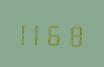eight: (66, 20, 81, 48)
one: (18, 18, 33, 46), (34, 19, 49, 46)
six: (50, 19, 65, 47)
